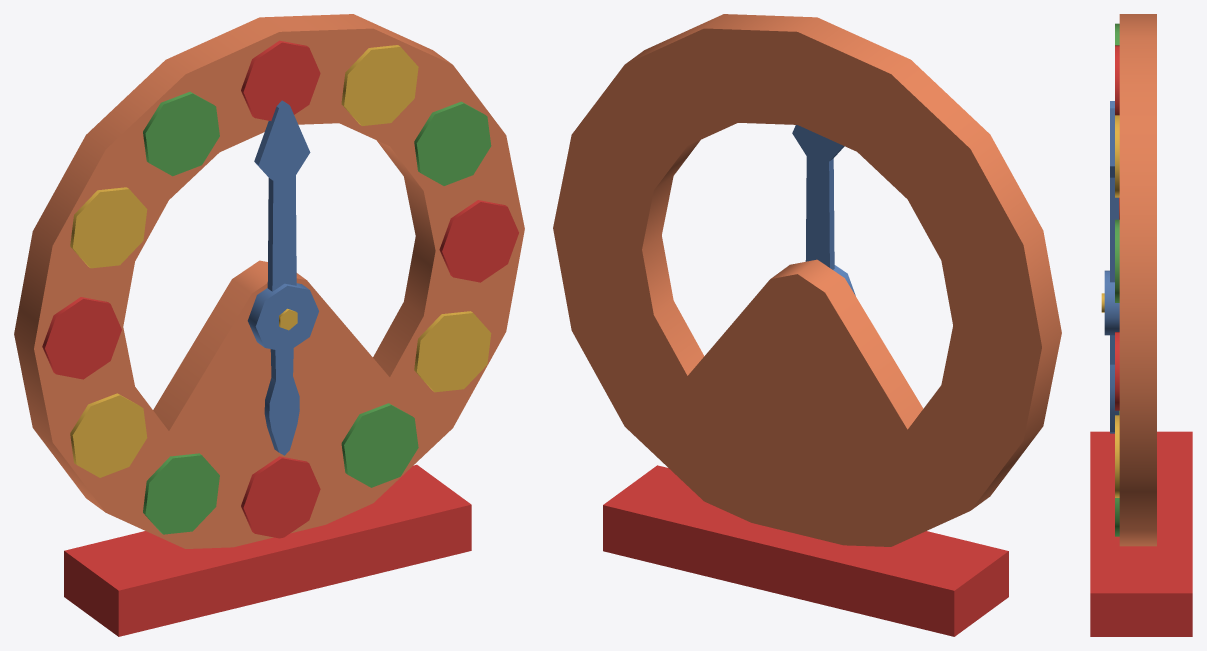
File: WoodenClock_01.fbx
The picture shows the model from 3 angles, left to right: view 1: azimuth 30°, elevation 25°; view 2: azimuth 150°, elevation 25°; view 3: azimuth 270°, elevation 25°; orthographic projection. The views are drawn at different scales.
Parts seen in each view (by area): view 1: WoodenClock_01, WoodenClock_01_Minute, WoodenClock_01_Hour; view 2: WoodenClock_01, WoodenClock_01_Minute; view 3: WoodenClock_01, WoodenClock_01_Minute, WoodenClock_01_Hour.
Part boxes in pixels (x1=…): WoodenClock_01: x1=14, y1=14, x2=524, y2=636; WoodenClock_01_Minute: x1=254, y1=100, x2=310, y2=291; WoodenClock_01_Hour: x1=264, y1=348, x2=299, y2=455; WoodenClock_01: x1=553, y1=14, x2=1061, y2=636; WoodenClock_01_Minute: x1=792, y1=125, x2=844, y2=269; WoodenClock_01: x1=1090, y1=14, x2=1192, y2=636; WoodenClock_01_Minute: x1=1110, y1=101, x2=1118, y2=282; WoodenClock_01_Hour: x1=1110, y1=335, x2=1118, y2=433.
Size of the model in its own units: 0.3341 by 0.3579 by 0.0643.
